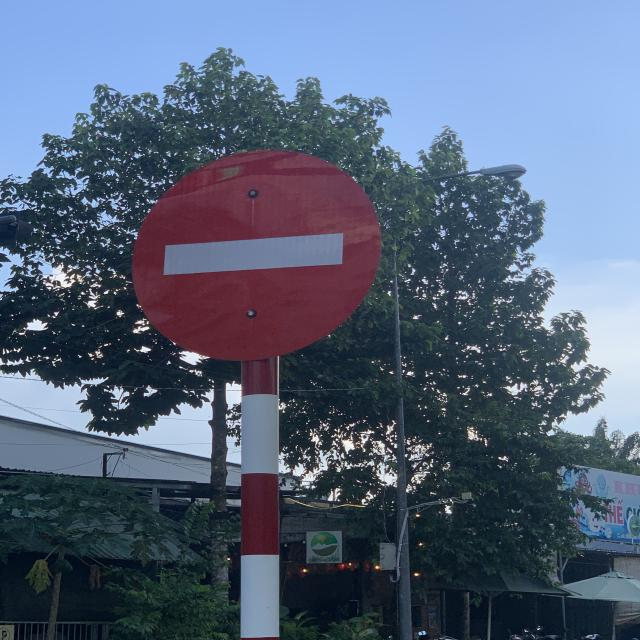Cam_Di_Nguoc_Chieu: (128, 153, 378, 356)
